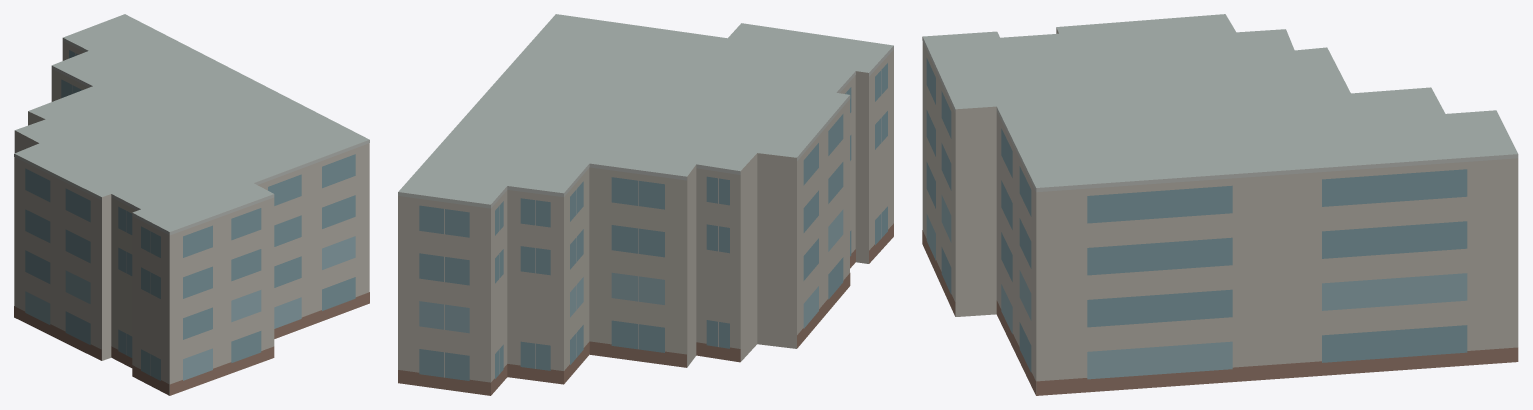
The model's file is survey-upis-33008080.glb.
3 renders of one model, left to right at view 1: azimuth 30°, elevation 25°; view 2: azimuth 150°, elevation 25°; view 3: azimuth 270°, elevation 25°, orthographic. The views are drawn at different scales.
Visible parts, largest first — view 1: survey-upis-33008080.tmp; view 2: survey-upis-33008080.tmp; view 3: survey-upis-33008080.tmp.
Part boxes in pixels (x1,y1,x2,y2): survey-upis-33008080.tmp: (14, 14, 369, 395); survey-upis-33008080.tmp: (398, 14, 893, 395); survey-upis-33008080.tmp: (922, 14, 1518, 395).
Bounding box in the file's own units: 21.56 × 12 × 31.19.
